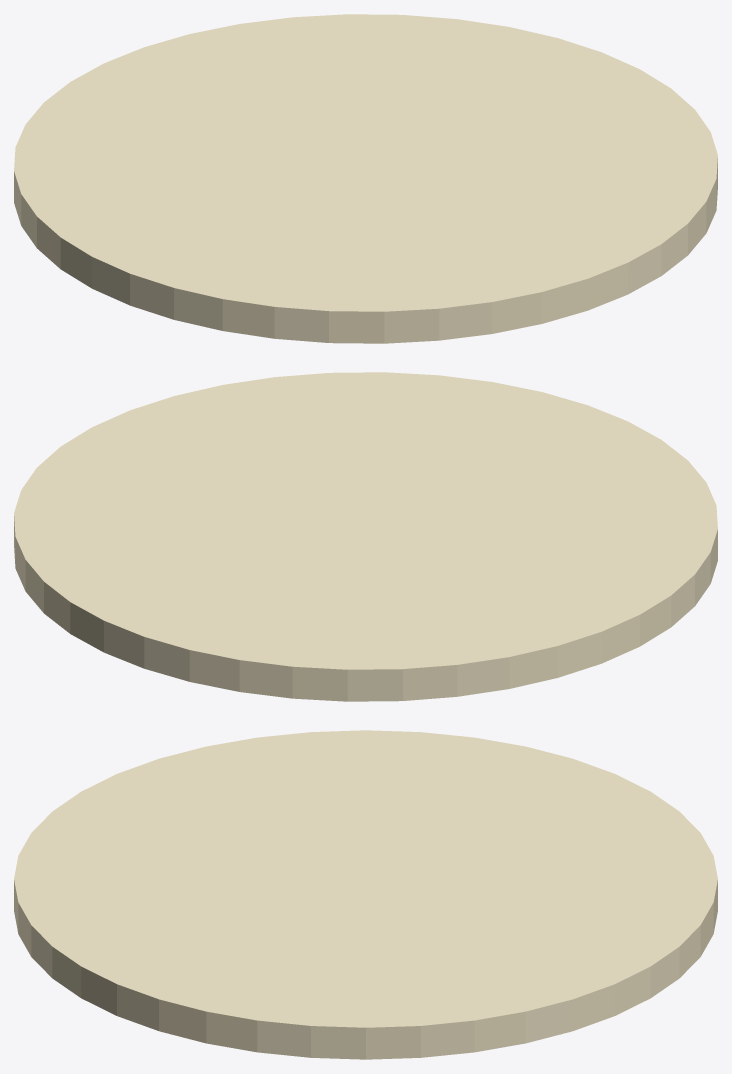
File: chao-sua-ilha.glb
3 views of the same model, one above another, from view 1: azimuth 30°, elevation 25°; view 2: azimuth 150°, elevation 25°; view 3: azimuth 270°, elevation 25° (orthographic).
Visible parts, largest first — view 1: chao-sua-ilha; view 2: chao-sua-ilha; view 3: chao-sua-ilha.
Part boxes in pixels (x1,y1,x2,y2): chao-sua-ilha: (14, 14, 717, 343); chao-sua-ilha: (14, 372, 717, 701); chao-sua-ilha: (14, 730, 717, 1059).
Bounding box in the file's own units: 2 × 0.1 × 2.
